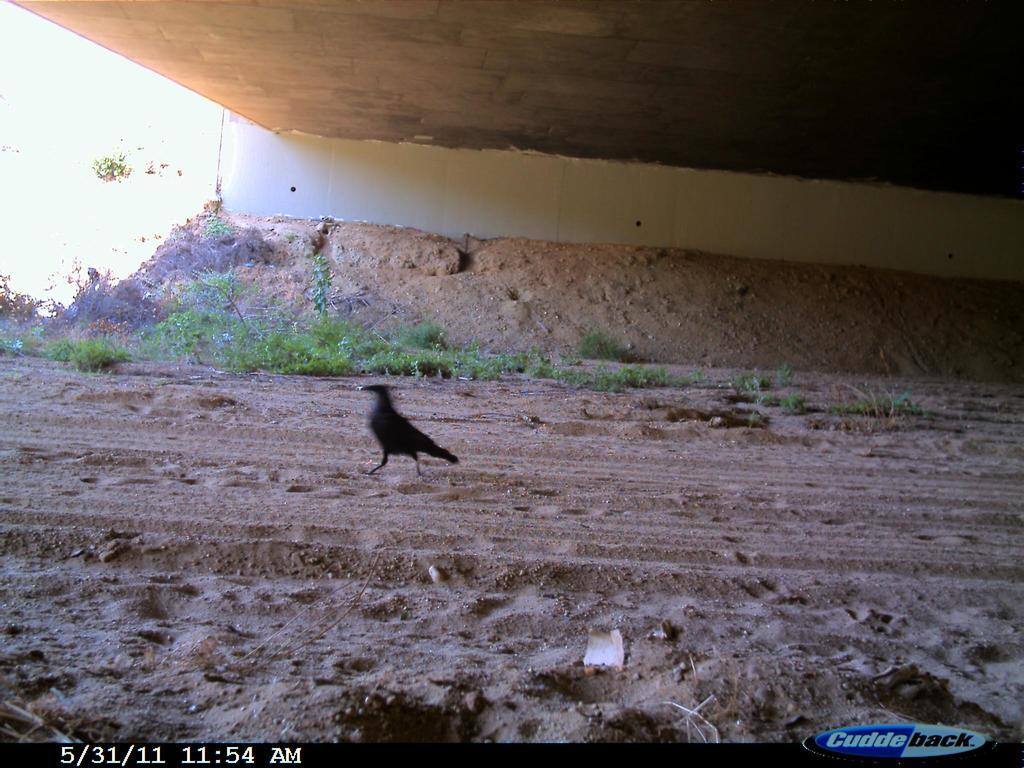bird: (357, 377, 463, 487)
